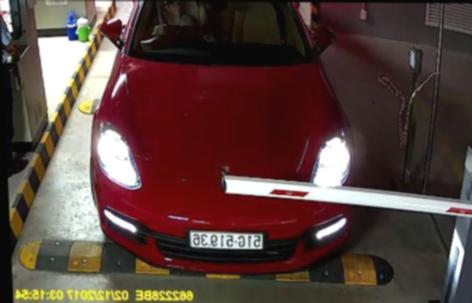License_Plate: (185, 229, 266, 251)
